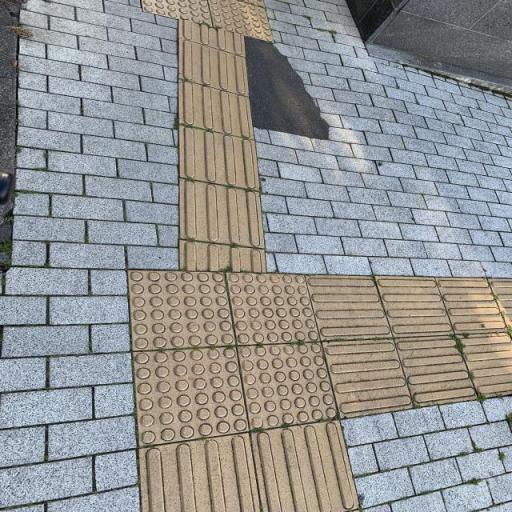dot: (133, 347, 250, 446), (237, 342, 339, 430), (128, 271, 236, 351), (224, 273, 321, 345)
line: (250, 419, 360, 511), (322, 338, 414, 419), (395, 335, 478, 408), (180, 178, 265, 248), (306, 274, 394, 341), (179, 126, 260, 192), (375, 276, 455, 338), (178, 79, 254, 140), (435, 277, 509, 334), (178, 38, 249, 97), (456, 334, 511, 399)
